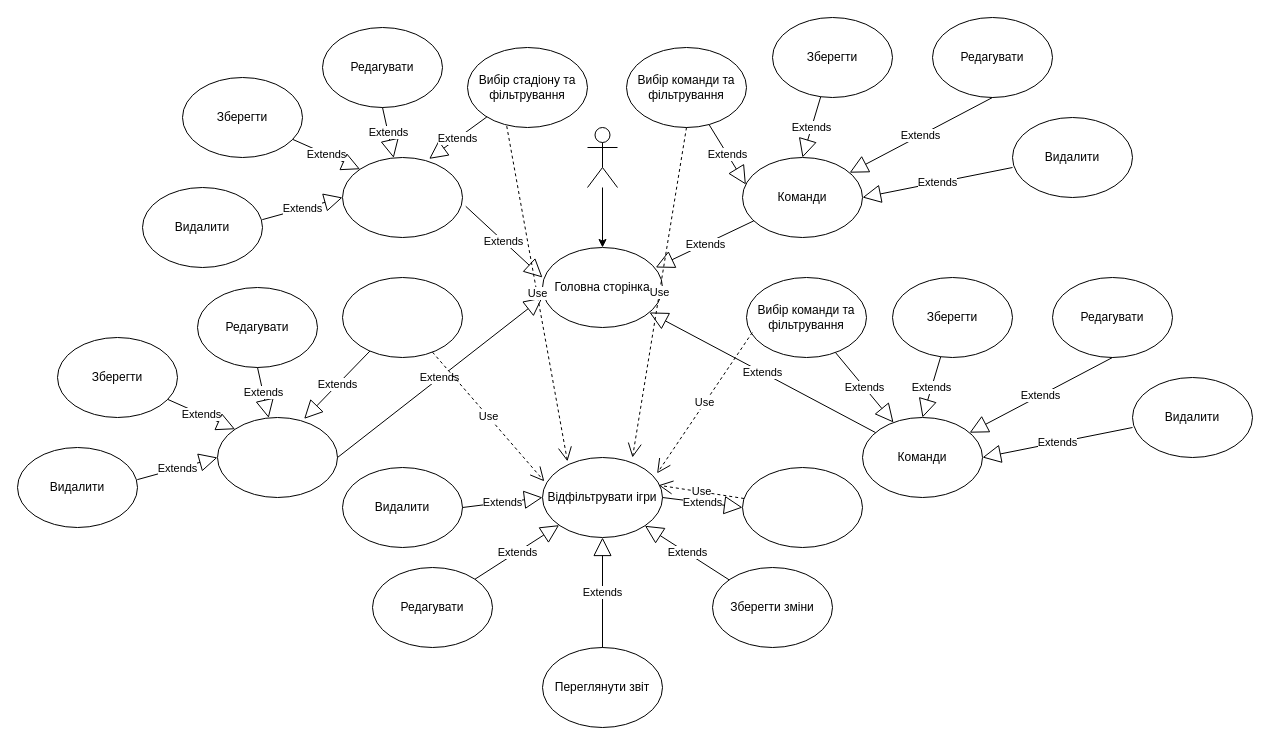
Image size: 1270x745. Some labels were removed from this diagram. Here are the shapes that lost their labels. From the top down, the centre of each, then its label:
the point at 602,157: Actor
the point at 402,197: Стадіони
the point at 402,317: Вибір турніру та фільтрування
the point at 277,457: Турніри
the point at 802,507: Змінити параметри фільтру
